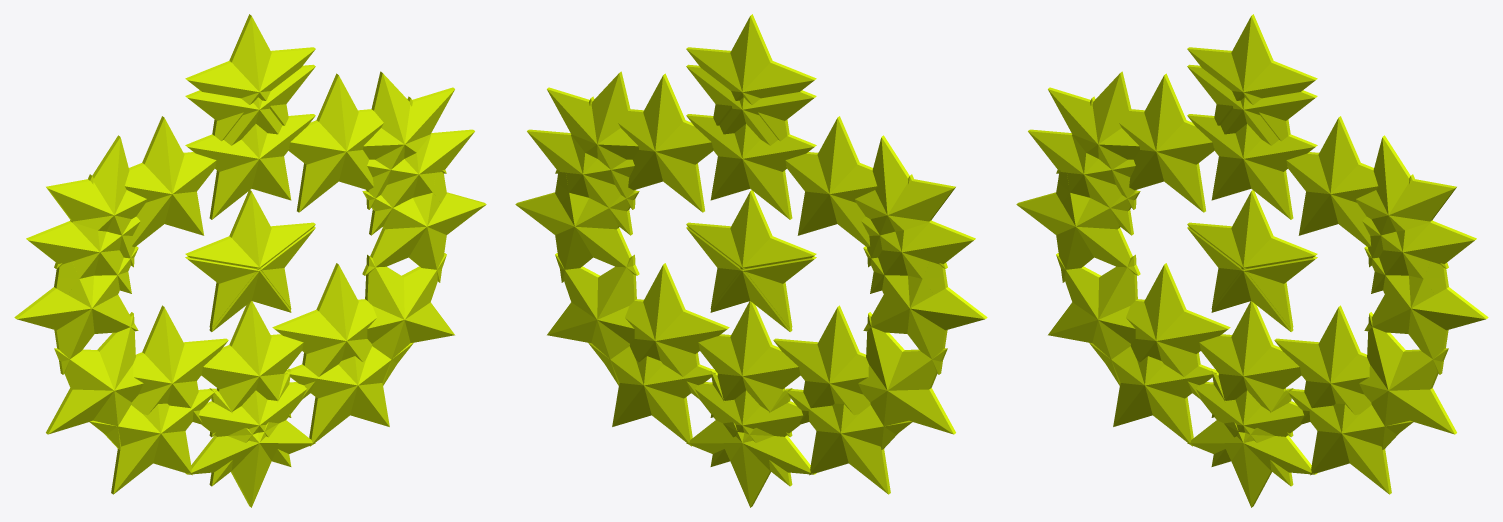
Rendered from balls.glb.
The picture shows the model from 3 angles, left to right: view 1: azimuth 30°, elevation 25°; view 2: azimuth 150°, elevation 25°; view 3: azimuth 330°, elevation 25°; orthographic projection.
Parts seen in each view (by area): view 1: star7, star4, star5, star6, star2, star3, star1; view 2: star7, star4, star6, star5, star2, star3, star1; view 3: star7, star4, star6, star5, star2, star3, star1.
Part boxes in pixels (<box>): star7: <box>46,14,454,507</box>; star4: <box>124,73,383,424</box>; star5: <box>14,14,486,505</box>; star6: <box>26,15,474,494</box>; star2: <box>185,114,315,437</box>; star3: <box>185,64,315,486</box>; star1: <box>185,190,315,328</box>; star7: <box>547,14,955,507</box>; star4: <box>618,73,877,424</box>; star6: <box>527,15,975,494</box>; star5: <box>515,16,987,504</box>; star2: <box>686,114,816,437</box>; star3: <box>686,64,816,486</box>; star1: <box>686,190,816,328</box>; star7: <box>1048,14,1456,507</box>; star4: <box>1119,73,1378,424</box>; star6: <box>1028,26,1476,494</box>; star5: <box>1016,16,1488,503</box>; star2: <box>1187,114,1317,437</box>; star3: <box>1187,64,1317,486</box>; star1: <box>1187,190,1317,328</box>.
Size of the model in its own units: 7.02 by 7.02 by 0.47.
